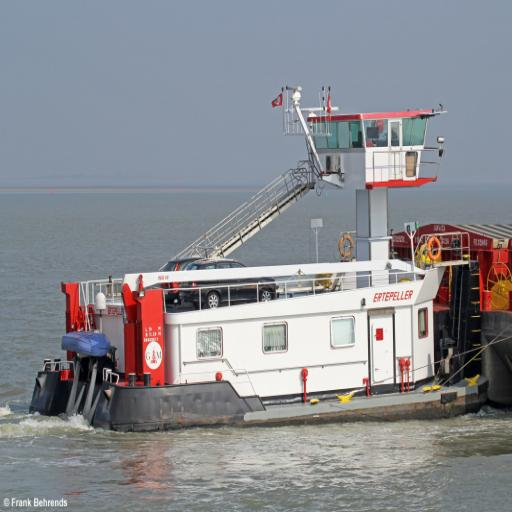tugboat: (27, 83, 493, 439)
